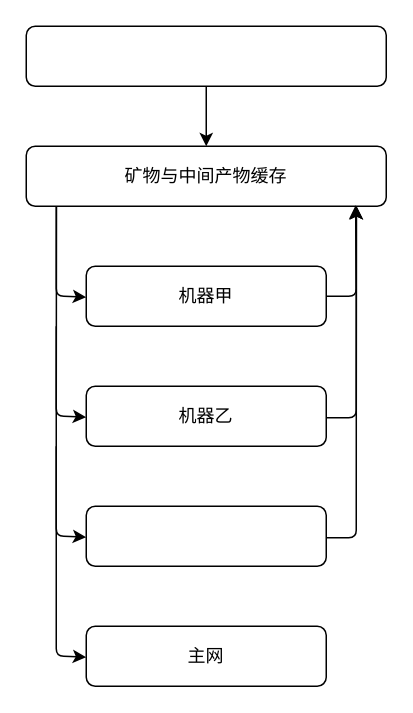
Image size: 413x713. Some labels were removed from this diagram. Here are the shapes that lost their labels. From the top down, the box of each, then its label:
(25, 25, 386, 86): 采矿输入
(85, 505, 326, 566): 机器丙
